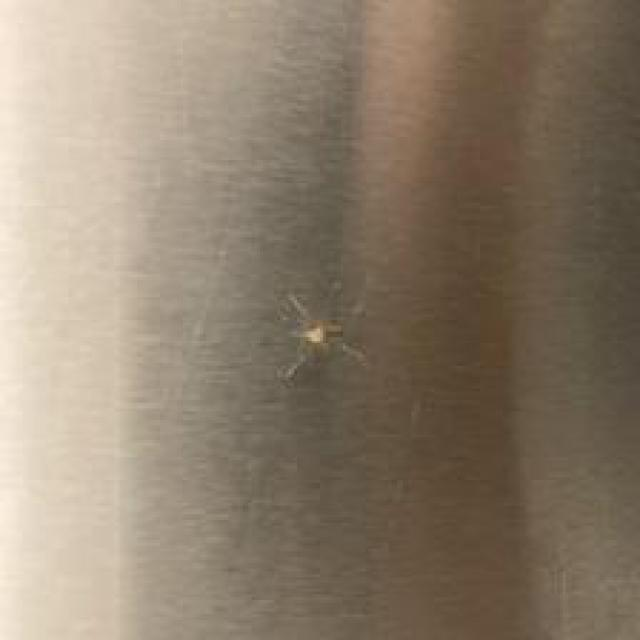Culex: (270, 283, 370, 386)
